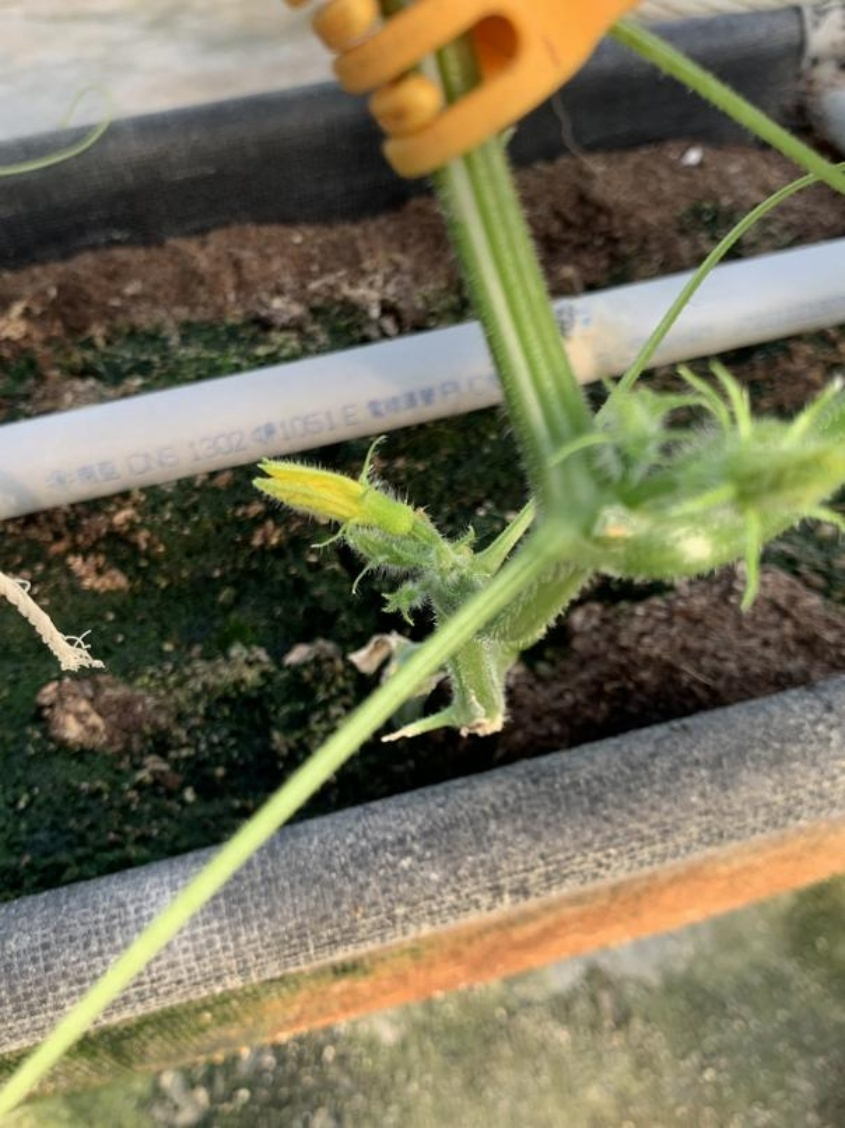bud: (250, 453, 420, 548)
